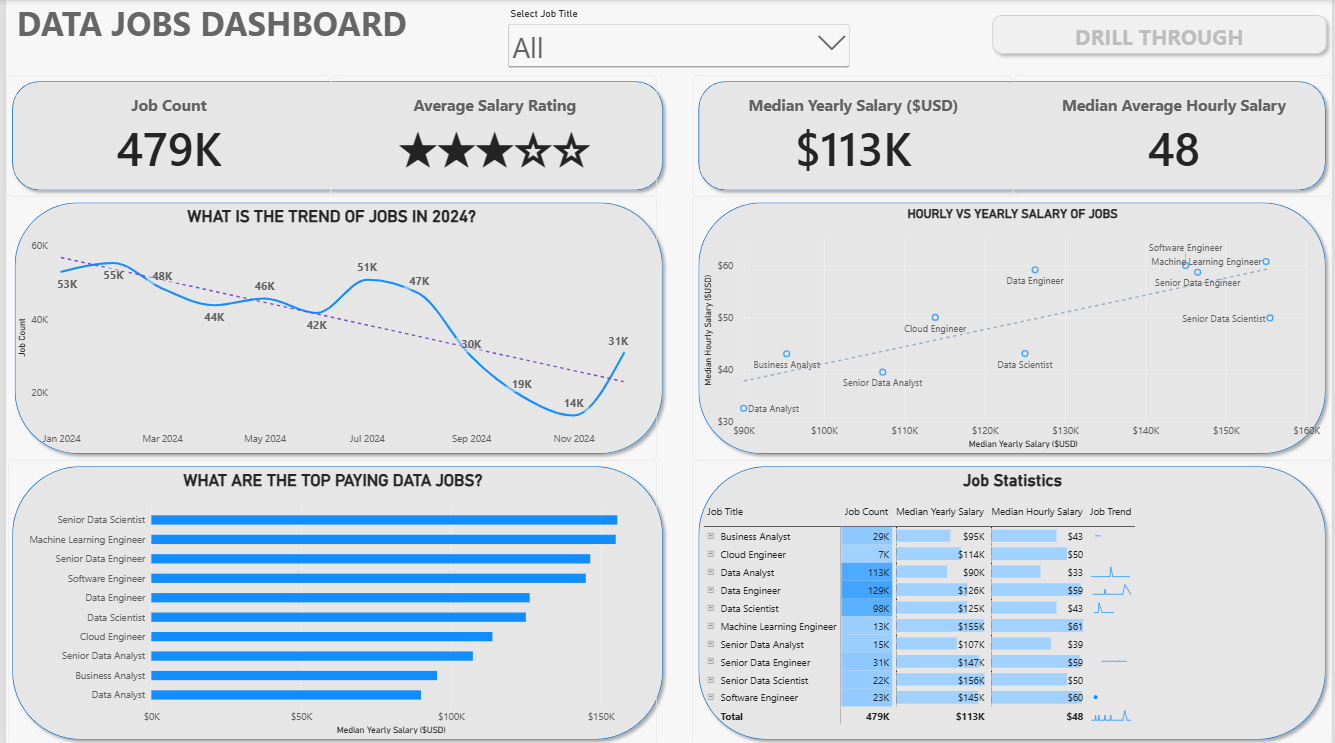

The dashboard page shown, as its layout file describes it:
{"tool":"powerbi","page":{"name":"Data Jobs Dashboard","canvas":[1920,1080],"ordinal":0},"visuals":[{"type":"group","id":"g1","title":"Background","box":[0,108,1920,972],"z":0},{"type":"shape","box":[0,108,960,176],"z":0,"group":"g1"},{"type":"textbox","box":[0,0,596,86],"z":1000},{"type":"shape","box":[994,108,926,176],"z":1000,"group":"g1"},{"type":"slicer","fields":{"Values":["job_postings_flat.job_title_short"]},"box":[722,10,504,152],"z":2000},{"type":"shape","box":[4,284,956,382],"z":2000,"group":"g1"},{"type":"cardVisual","fields":{"Data":["CountNonNull(job_postings_flat.job_title_short)"]},"box":[0,108,470,176],"z":3000},{"type":"shape","box":[994,284,926,382],"z":3000,"group":"g1"},{"type":"cardVisual","fields":{"Data":["job_postings_flat.Salary_Star_Rating"]},"box":[470,108,472,176],"z":4000},{"type":"shape","box":[0,666,960,414],"z":4000,"group":"g1"},{"type":"cardVisual","fields":{"Data":["Median(job_postings_flat.salary_year_avg)"]},"box":[994,108,464,176],"z":5000},{"type":"shape","box":[994,666,926,414],"z":5000,"group":"g1"},{"type":"cardVisual","fields":{"Data":["Median(job_postings_flat.salary_hour_avg)"]},"box":[1458,108.8,462,176],"z":6000},{"type":"lineChart","title":"WHAT IS THE TREND OF JOBS IN 2024?","fields":{"Category":["job_postings_flat.job_posted_date.Variation.Date Hierarchy.Year","job_postings_flat.job_posted_date.Variation.Date Hierarchy.Quarter","job_postings_flat.job_posted_date.Variation.Date Hierarchy.Month","job_postings_flat.job_posted_date.Variation.Date Hierarchy.Day"],"Y":["CountNonNull(job_postings_flat.job_title_short)"]},"box":[0,284,942,382],"z":7000},{"type":"barChart","title":"WHAT ARE THE TOP PAYING DATA JOBS?","fields":{"Category":["job_postings_flat.job_title_short"],"Y":["Median(job_postings_flat.salary_year_avg)"]},"box":[4,666,938,414],"z":8000},{"type":"scatterChart","title":"HOURLY VS YEARLY SALARY OF JOBS","fields":{"Series":["job_postings_flat.job_title_short"],"X":["Median(job_postings_flat.salary_year_avg)"],"Y":["Median(job_postings_flat.salary_hour_avg)"]},"box":[994,284,926,382],"z":9000},{"type":"pivotTable","title":"Job Statistics","fields":{"Rows":["job_postings_flat.job_title_short","job_postings_flat.job_posted_date.Variation.Date Hierarchy.Year","job_postings_flat.job_posted_date.Variation.Date Hierarchy.Quarter","job_postings_flat.job_posted_date.Variation.Date Hierarchy.Month","job_postings_flat.job_posted_date.Variation.Date Hierarchy.Day"],"Values":["CountNonNull(job_postings_flat.job_country)","Median(job_postings_flat.salary_year_avg)","Median(job_postings_flat.salary_hour_avg)","SparklineData(CountNonNull(job_postings_flat.job_title_short)_[job_postings_flat.job_posted_date])"]},"box":[994,666,926,414],"z":10000},{"type":"actionButton","box":[1418,12,502,74],"z":11000}]}

Visuals, with their boxes in screenshot pixels (x1, y1, x2, y2), scaled from the page's 1920x1080 canvas onto the 1335x743 screenshot:
"Background" group: <region>0, 74, 1334, 742</region>
shape: <region>0, 74, 668, 195</region>
textbox: <region>0, 0, 414, 59</region>
shape: <region>691, 74, 1334, 195</region>
slicer - job_postings_flat.job_title_short: <region>502, 7, 852, 111</region>
shape: <region>3, 195, 668, 458</region>
cardVisual - CountNonNull(job_postings_flat.job_title_short): <region>0, 74, 327, 195</region>
shape: <region>691, 195, 1334, 458</region>
cardVisual - job_postings_flat.Salary_Star_Rating: <region>327, 74, 655, 195</region>
shape: <region>0, 458, 668, 742</region>
cardVisual - Median(job_postings_flat.salary_year_avg): <region>691, 74, 1014, 195</region>
shape: <region>691, 458, 1334, 742</region>
cardVisual - Median(job_postings_flat.salary_hour_avg): <region>1014, 75, 1334, 196</region>
"WHAT IS THE TREND OF JOBS IN 2024?" lineChart: <region>0, 195, 655, 458</region>
"WHAT ARE THE TOP PAYING DATA JOBS?" barChart: <region>3, 458, 655, 742</region>
"HOURLY VS YEARLY SALARY OF JOBS" scatterChart: <region>691, 195, 1334, 458</region>
"Job Statistics" pivotTable: <region>691, 458, 1334, 742</region>
actionButton: <region>986, 8, 1334, 59</region>
